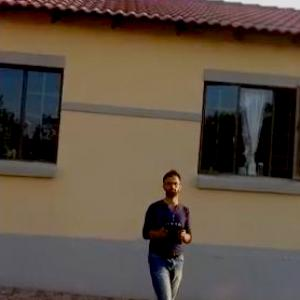follow: (136, 165, 196, 299)
